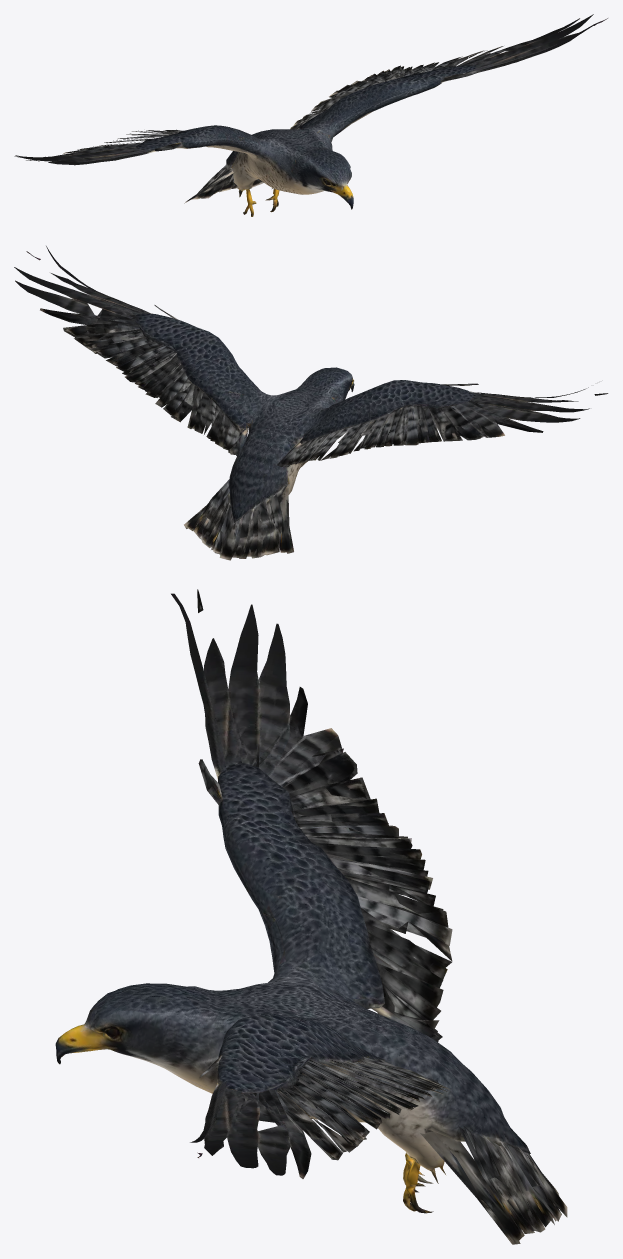
File: falcon.glb
3 renders of one model, top to bottom at view 1: azimuth 30°, elevation 25°; view 2: azimuth 150°, elevation 25°; view 3: azimuth 270°, elevation 25°, orthographic. The views are drawn at different scales.
Size of the model in its own units: 0.9551 by 0.2725 by 0.3633.
Materials: 1 (1 with a texture image).
